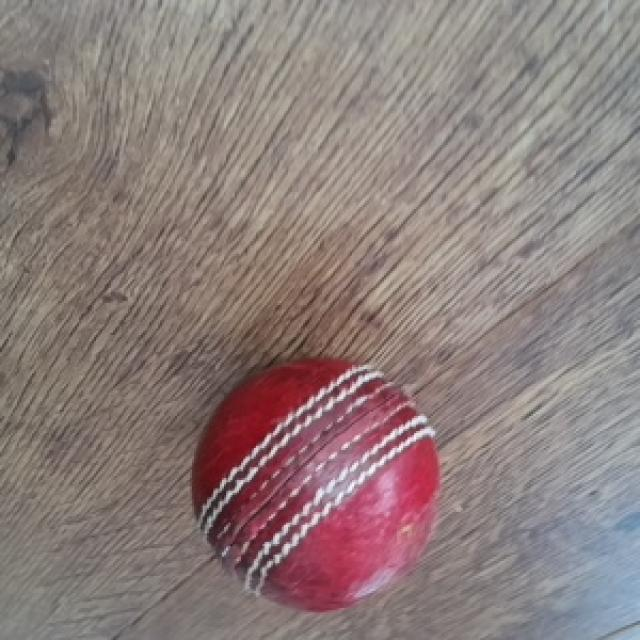ball: (190, 358, 444, 617)
